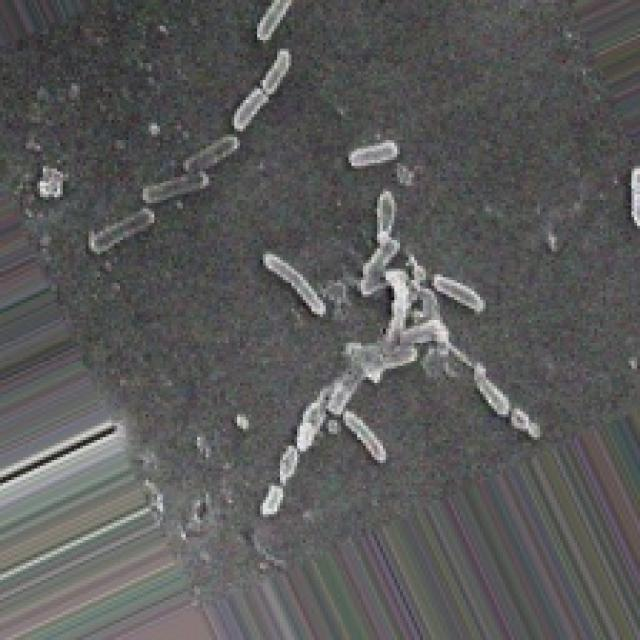Rod_bacteria: (251, 186, 543, 517)
